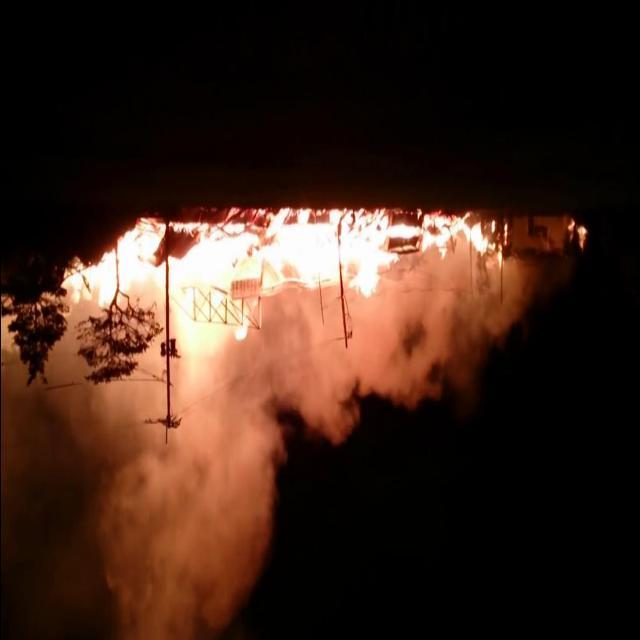Fire: (57, 212, 509, 354), (566, 218, 588, 252)
